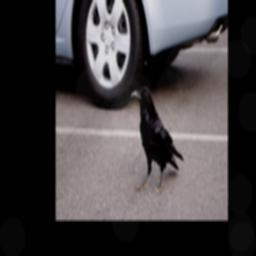Crow: (131, 83, 185, 192)
